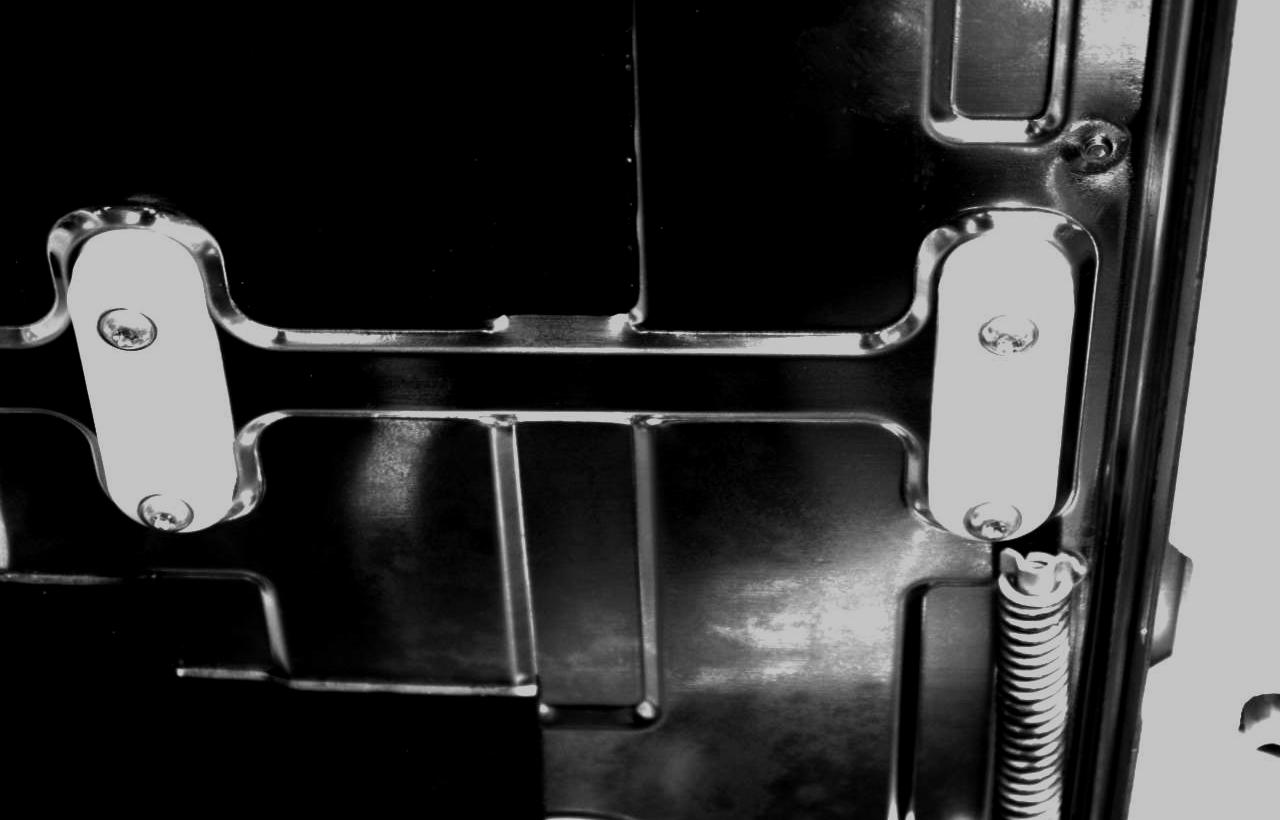vida-ok: (87, 297, 174, 375), (966, 302, 1054, 375), (125, 481, 206, 545), (952, 488, 1027, 547)
